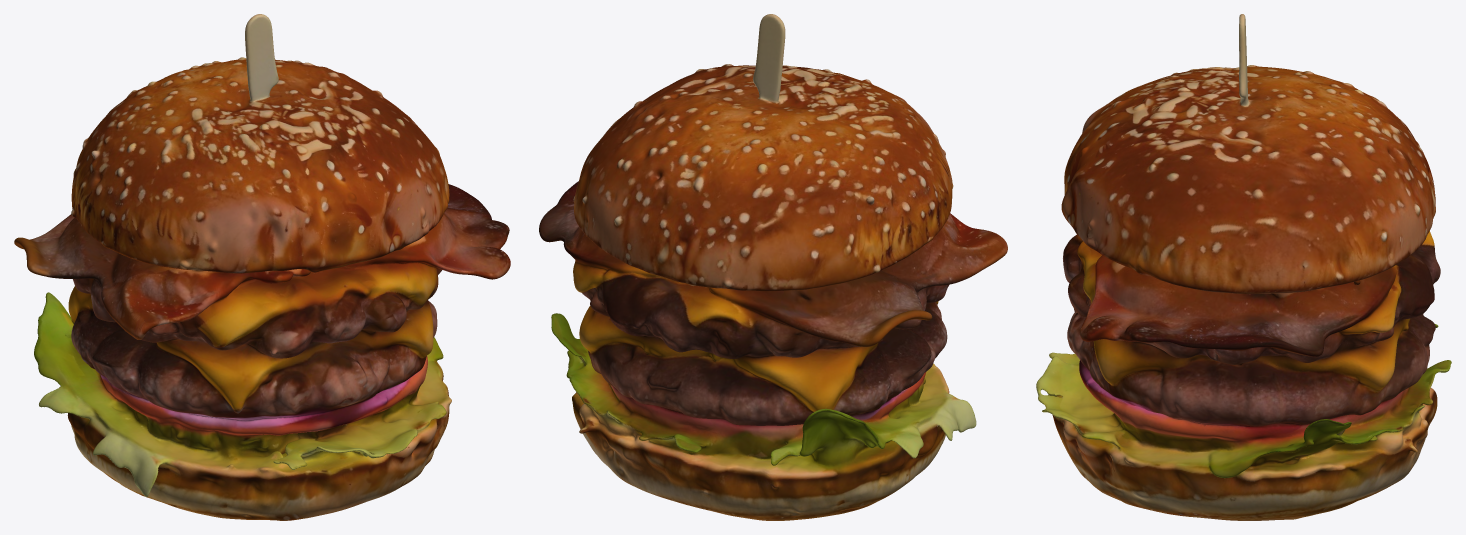
The model's file is burger+3d+model.glb.
3 renders of one model, left to right at view 1: azimuth 30°, elevation 25°; view 2: azimuth 150°, elevation 25°; view 3: azimuth 270°, elevation 25°, orthographic.
Visible parts, largest first — view 1: tripo_node_9d105749-fbe8-465a-ad01-80b89f90716e; view 2: tripo_node_9d105749-fbe8-465a-ad01-80b89f90716e; view 3: tripo_node_9d105749-fbe8-465a-ad01-80b89f90716e.
Part boxes in pixels (x1,y1,x2,y2): tripo_node_9d105749-fbe8-465a-ad01-80b89f90716e: (14,14,510,520); tripo_node_9d105749-fbe8-465a-ad01-80b89f90716e: (539,14,1007,520); tripo_node_9d105749-fbe8-465a-ad01-80b89f90716e: (1036,14,1451,520).
Size of the model in its own units: 0.9419 by 1 by 0.8381.
Materials: 1 (1 with a texture image).
